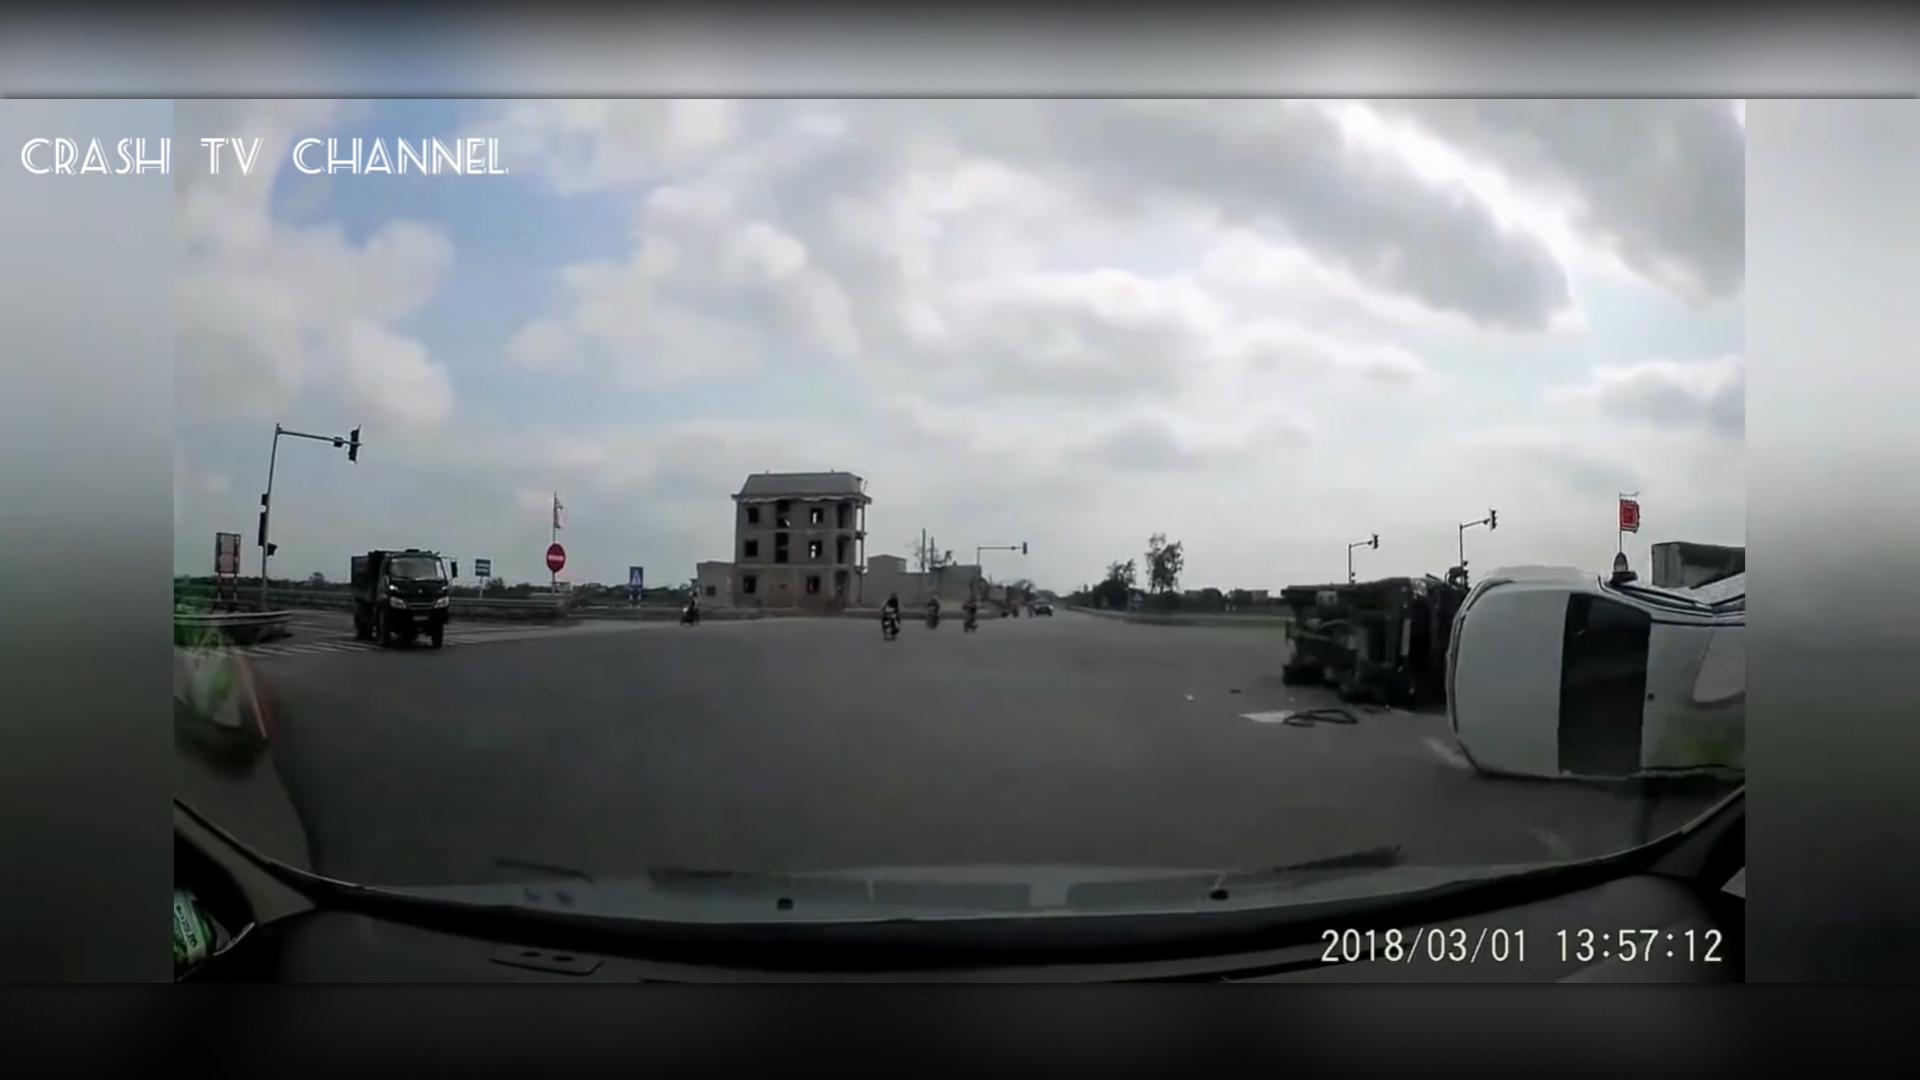accident: (1254, 551, 1749, 799)
